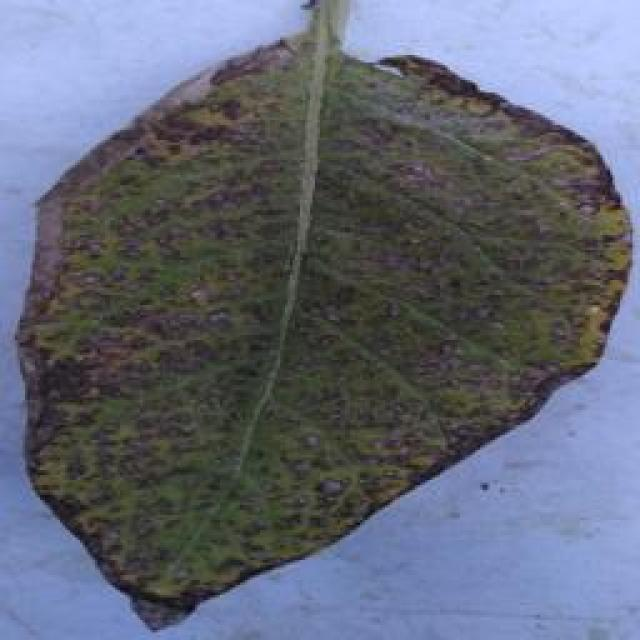Potato_Early_Blight: (6, 10, 637, 638)
